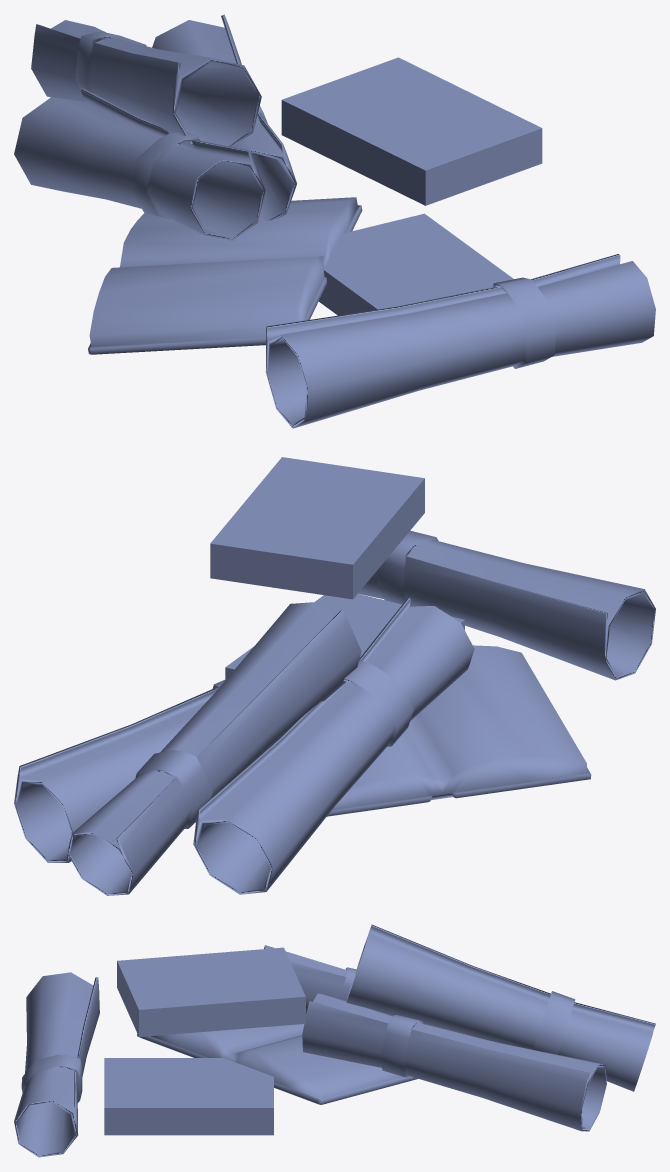
The model's file is Book_Pile_10A_Lod0.fbx.
The picture shows the model from 3 angles, top to bottom: view 1: azimuth 30°, elevation 25°; view 2: azimuth 150°, elevation 25°; view 3: azimuth 270°, elevation 25°; orthographic projection. The views are drawn at different scales.
Visible parts, largest first — view 1: Book_Pile_10A_Lod0; view 2: Book_Pile_10A_Lod0; view 3: Book_Pile_10A_Lod0.
Boxes of the visible parts, x1,y1,x2,y2 form: Book_Pile_10A_Lod0: (14, 14, 655, 428); Book_Pile_10A_Lod0: (14, 457, 655, 895); Book_Pile_10A_Lod0: (14, 924, 655, 1157).
Size of the model in its own units: 55.97 by 26.47 by 96.19.
